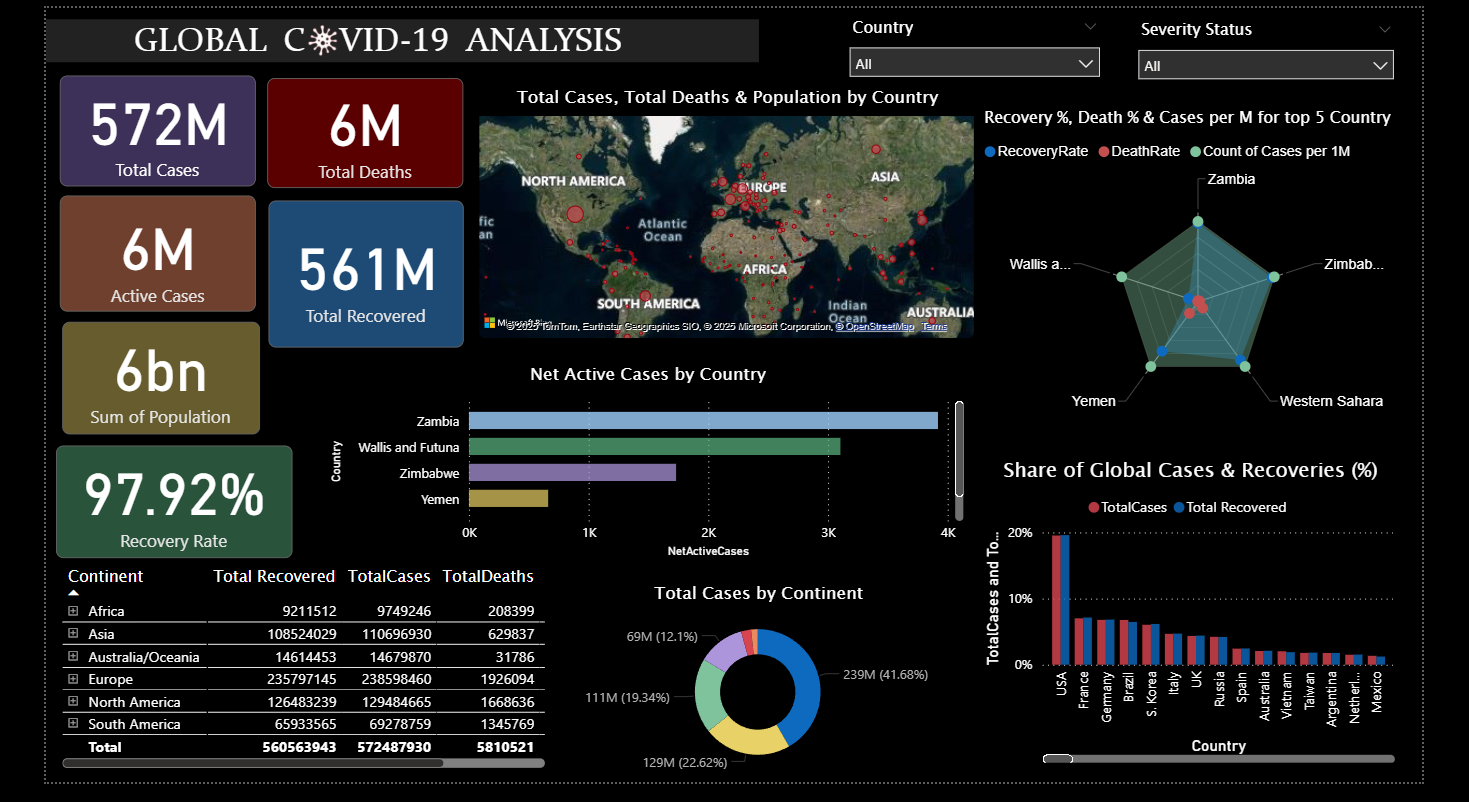

The dashboard page shown, as its layout file describes it:
{"tool":"powerbi","page":{"name":"Page 2","canvas":[1280,720],"ordinal":0},"visuals":[{"type":"textbox","box":[0,10,662.9,40],"z":0},{"type":"card","fields":{"Values":["Sum(Table 1.TotalCases)"]},"box":[12.8,62.8,182.6,103.5],"z":1000},{"type":"card","fields":{"Values":["Sum(Table 1.TotalDeaths)"]},"box":[205.8,65.1,182.6,102.3],"z":2000},{"type":"card","fields":{"Values":["Sum(Table 1.Total Recovered)"]},"box":[207.1,178.6,181.4,137.1],"z":3000},{"type":"card","fields":{"Values":["Sum(Table 1.Population)"]},"box":[15.1,291.9,183.7,104.7],"z":4000},{"type":"map","title":"Total Cases, Total Deaths & Population by Country","fields":{"Category":["Table 1.Country"],"Size":["Sum(Table 1.TotalCases)"]},"box":[402.6,69.7,461.9,238.7],"z":5000},{"type":"donutChart","title":"Total Cases by Continent","fields":{"Category":["Table 1.Continent"],"Y":["Sum(Table 1.TotalCases)"]},"box":[461.4,517.1,401.4,202.9],"z":6000},{"type":"slicer","fields":{"Values":["Table 1.Country"]},"box":[737.1,2.9,252.9,65.7],"z":7000},{"type":"clusteredColumnChart","title":"Share of Global Cases & Recoveries (%)","fields":{"Category":["Table 1.Country"],"Y":["Divide(Sum(Table 1.TotalCases), ScopedEval(Sum(Table 1.TotalCases), []))","Divide(Sum(Table 1.Total Recovered), ScopedEval(Sum(Table 1.Total Recovered), []))"]},"box":[864.3,411.4,400,300],"z":8000},{"type":"card","fields":{"Values":["Table 1.NetActiveCases"]},"box":[12.8,174.4,182.6,108.1],"z":9000},{"type":"card","fields":{"Values":["Table 1.Recovery Rate"]},"box":[9.3,407,219.8,104.7],"z":10000},{"type":"clusteredBarChart","title":"Net Active Cases by Country","fields":{"Y":["Table 1.NetActiveCases"],"Category":["Table 1.Country"]},"box":[240,308.6,624.3,212.9],"z":11000},{"type":"RadarChart1446119667547","title":" Recovery %, Death % & Cases per M for top 5 Country","fields":{"Category":["Table 1.Country"],"Y":["Table 1.RecoveryRate","Table 1.DeathRate","Count(Table 1.Cases per 1M)"]},"box":[864.3,87.1,415.7,320],"z":12000},{"type":"pivotTable","fields":{"Rows":["Table 1 (2).Continent","Table 1 (2).Country"],"Columns":["Table 1 (2).Metric Type"],"Values":["Sum(Table 1 (2).Metric Value)"]},"box":[10,511.4,458.6,200],"z":13000},{"type":"slicer","fields":{"Values":["Table 1.DiseaseLevel"]},"box":[1005.8,4.7,258.1,65.1],"z":14000},{"type":"textbox","box":[77.1,4.3,562.9,58.6],"z":15000},{"type":"image","box":[237.1,10,41.4,40],"z":16000}]}

Visuals, with their boxes on the page's 1280x720 design canvas (x1, y1, x2, y2). These are canvas units, not pixel positions in the 1469x802 screenshot, which may show the page scaled, cropped or inside an application window:
textbox: detection(0, 10, 663, 50)
card - Sum(Table 1.TotalCases): detection(13, 63, 195, 166)
card - Sum(Table 1.TotalDeaths): detection(206, 65, 388, 167)
card - Sum(Table 1.Total Recovered): detection(207, 179, 388, 316)
card - Sum(Table 1.Population): detection(15, 292, 199, 397)
"Total Cases, Total Deaths & Population by Country" map: detection(403, 70, 864, 308)
"Total Cases by Continent" donutChart: detection(461, 517, 863, 720)
slicer - Table 1.Country: detection(737, 3, 990, 69)
"Share of Global Cases & Recoveries (%)" clusteredColumnChart: detection(864, 411, 1264, 711)
card - Table 1.NetActiveCases: detection(13, 174, 195, 282)
card - Table 1.Recovery Rate: detection(9, 407, 229, 512)
"Net Active Cases by Country" clusteredBarChart: detection(240, 309, 864, 522)
" Recovery %, Death % & Cases per M for top 5 Country" RadarChart1446119667547: detection(864, 87, 1280, 407)
pivotTable - Table 1 (2).Continent x Table 1 (2).Country: detection(10, 511, 469, 711)
slicer - Table 1.DiseaseLevel: detection(1006, 5, 1264, 70)
textbox: detection(77, 4, 640, 63)
image: detection(237, 10, 278, 50)
